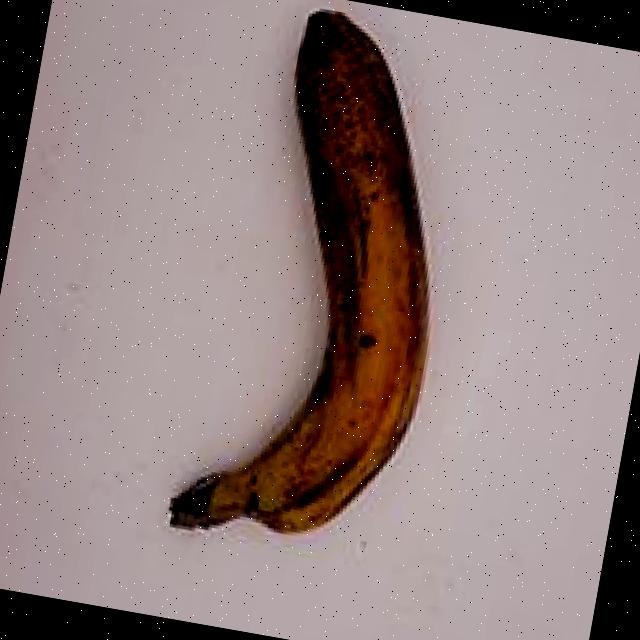Overripe: (126, 0, 525, 597)
